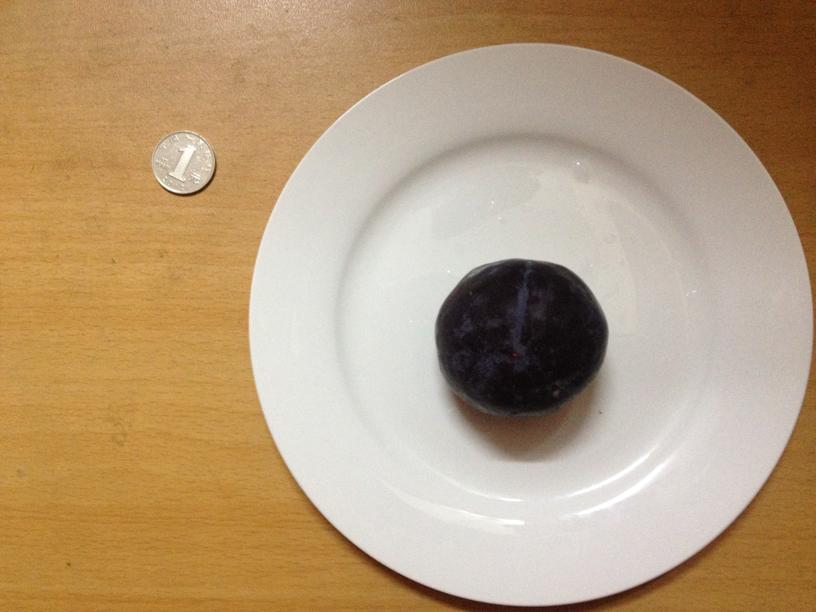coin: (152, 130, 216, 196)
plum: (432, 260, 607, 415)
